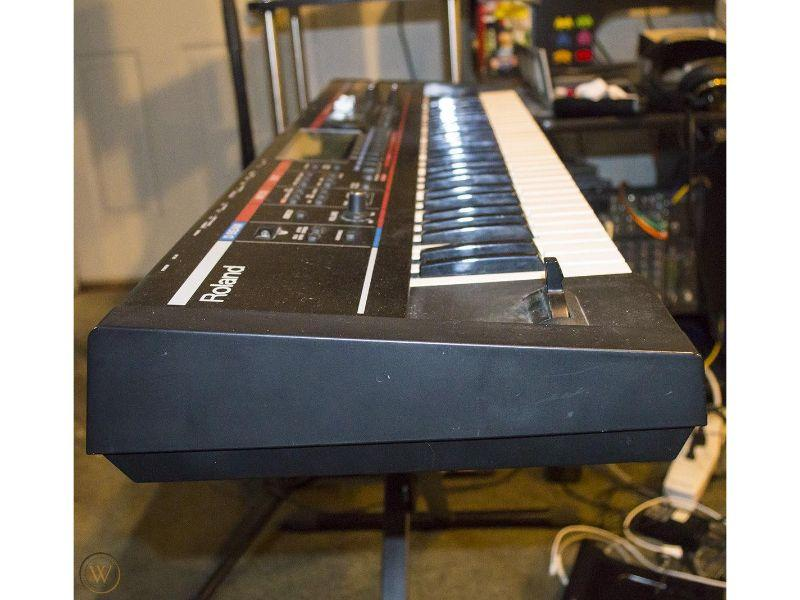synthesizer: (93, 47, 711, 486)
